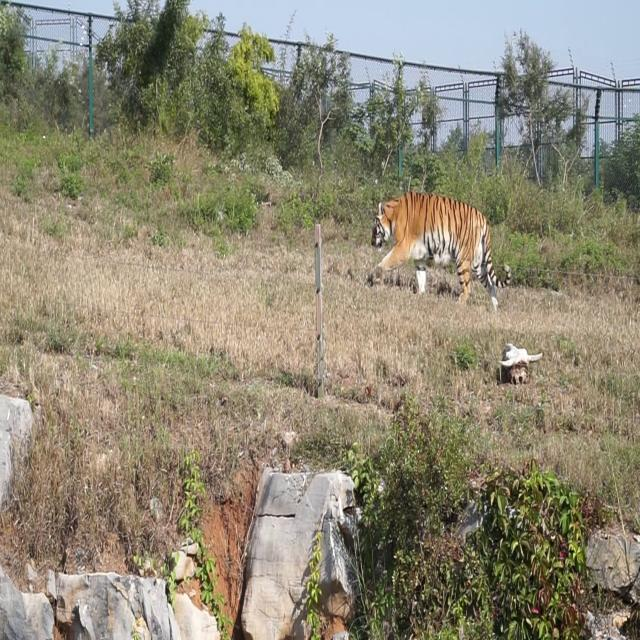Tiger: (364, 186, 522, 333)
